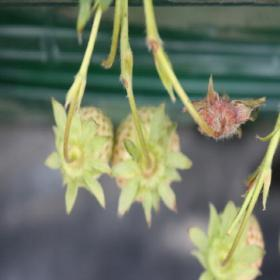Gray Mold: (182, 74, 267, 139)
